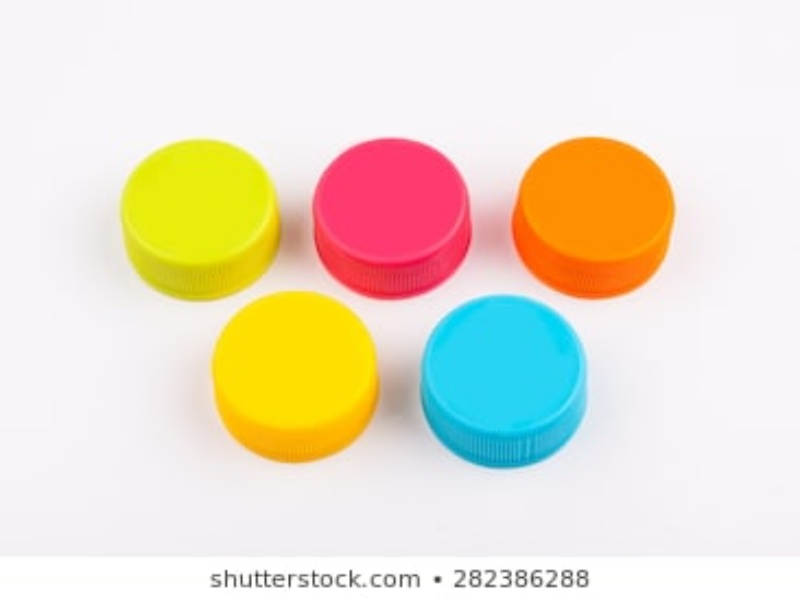bottle-cap: (420, 294, 591, 473), (418, 292, 589, 471), (209, 290, 383, 460), (116, 138, 284, 301), (510, 135, 678, 298), (307, 137, 475, 300)
